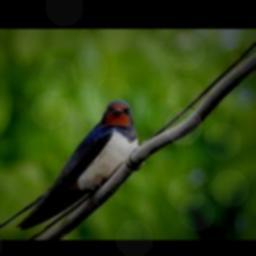Swallow: (0, 99, 140, 237)
